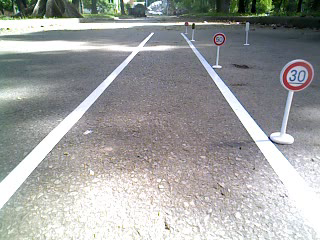limit 30: (278, 57, 317, 94)
limit 50: (211, 32, 227, 47)
